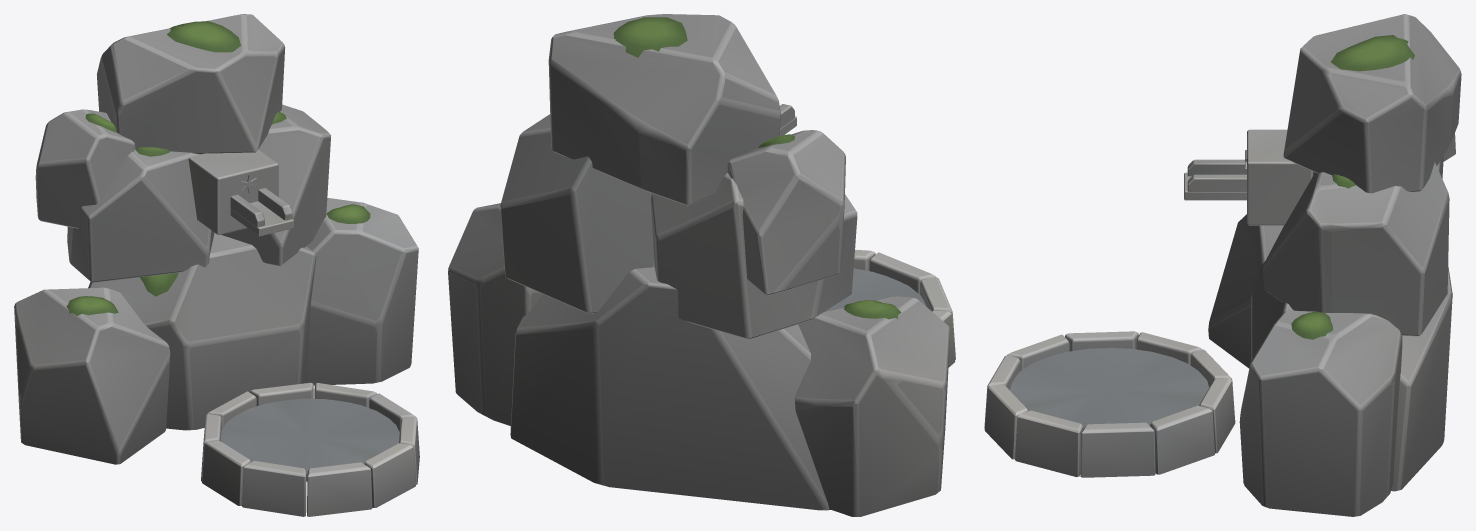
File: mech_spring.glb
3 views of the same model, side by side, from view 1: azimuth 30°, elevation 25°; view 2: azimuth 150°, elevation 25°; view 3: azimuth 270°, elevation 25° (orthographic). The views are drawn at different scales.
Visible parts, largest first — view 1: mech_spring_LOD0; view 2: mech_spring_LOD0; view 3: mech_spring_LOD0.
Boxes of the visible parts, left/top/right/bottom form: mech_spring_LOD0: left=14, top=14, right=419, bottom=516; mech_spring_LOD0: left=448, top=14, right=955, bottom=516; mech_spring_LOD0: left=984, top=14, right=1461, bottom=516.
Size of what is drawn, in the model's own units: 5.53 by 4.85 by 5.4.
